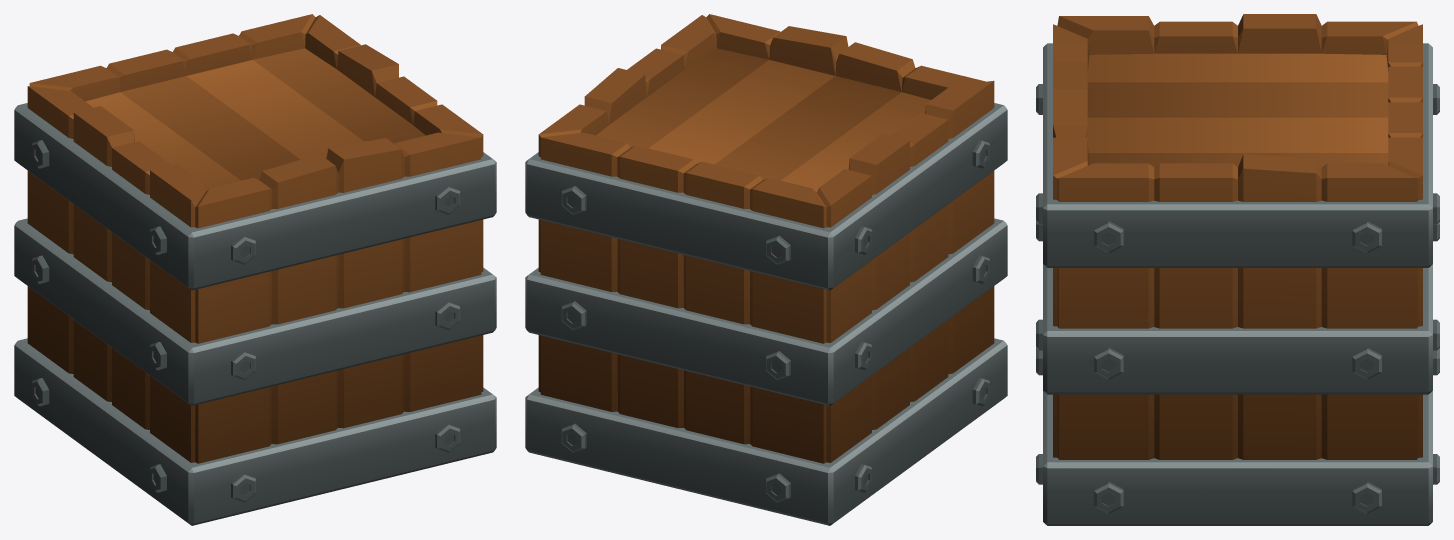
The picture shows the model from 3 angles, left to right: view 1: azimuth 30°, elevation 25°; view 2: azimuth 150°, elevation 25°; view 3: azimuth 270°, elevation 25°; orthographic projection. The views are drawn at different scales.
Visible parts, largest first — view 1: Box-1-4; view 2: Box-1-4; view 3: Box-1-4.
Part boxes in pixels (bbox=[...]): Box-1-4: bbox=[14, 14, 496, 525]; Box-1-4: bbox=[525, 14, 1007, 525]; Box-1-4: bbox=[1036, 14, 1439, 525].
Size of the model in its own units: 101 by 99.07 by 101.
